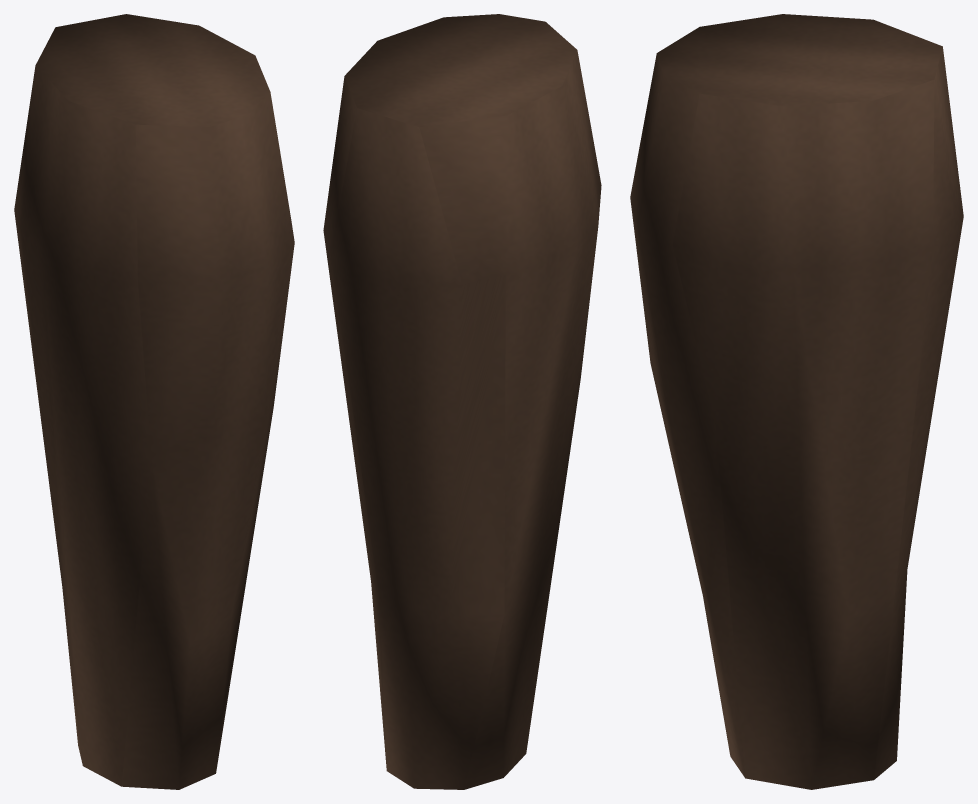
3 renders of one model, left to right at view 1: azimuth 30°, elevation 25°; view 2: azimuth 150°, elevation 25°; view 3: azimuth 270°, elevation 25°, orthographic. The views are drawn at different scales.
Visible parts, largest first — view 1: agro_fr_up_LOD1; view 2: agro_fr_up_LOD1; view 3: agro_fr_up_LOD1.
Part boxes in pixels (<box>): agro_fr_up_LOD1: <box>14,14,294,789</box>; agro_fr_up_LOD1: <box>323,14,601,789</box>; agro_fr_up_LOD1: <box>630,14,963,789</box>.
Size of the model in its own units: 0.241 by 0.6951 by 0.2999.
1 material, 1 textured.
